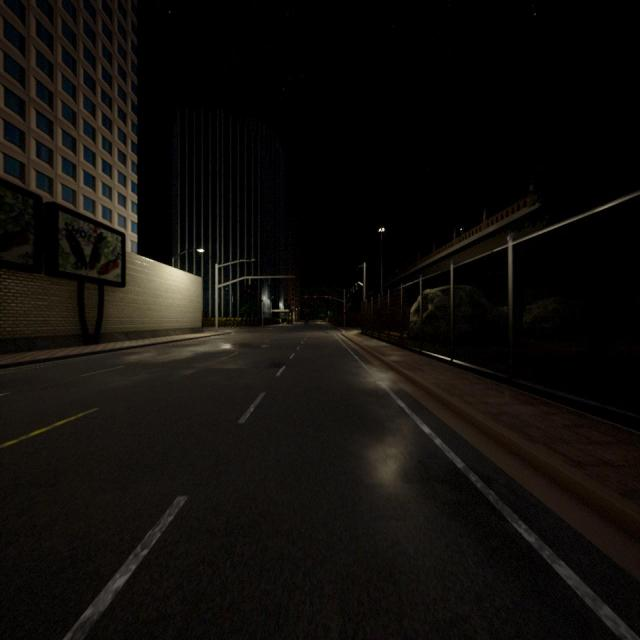traffic_light: (343, 309, 346, 315), (328, 296, 332, 300), (305, 295, 307, 299), (314, 295, 316, 298)
